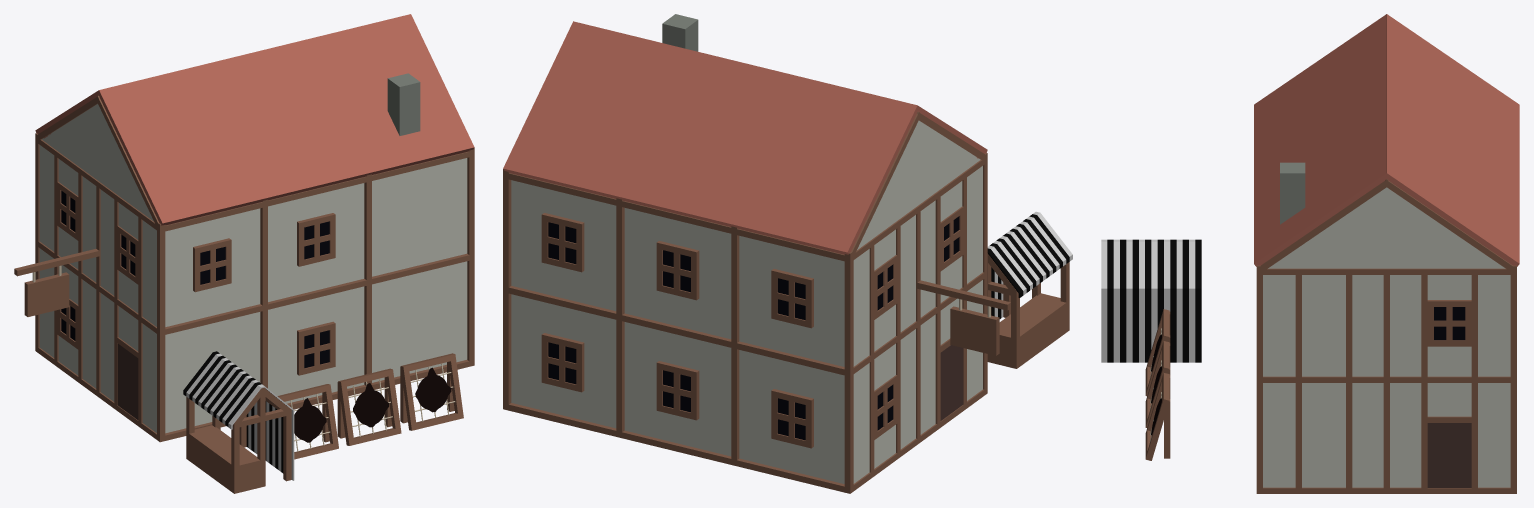
Rendered from timberframedtanner_black_white.obj.
3 renders of one model, left to right at view 1: azimuth 30°, elevation 25°; view 2: azimuth 150°, elevation 25°; view 3: azimuth 270°, elevation 25°, orthographic. The views are drawn at different scales.
Visible parts, largest first — view 1: Cube.005, Cube.007_Cube.011, Cylinder.003_Cylinder.001, Cylinder.001_Cylinder.008, Cube.011_Cube.015, Cylinder.004_Cylinder.009, Cube.018_Cube.016, Cube.026_Cube.019, Cube.006_Cube.010, Cube.001_Cube.058, Cube.056_Cube.081, Cube.013_Cube.080 (+27 smaller); view 2: Cube.005, Cube.007_Cube.011, Cube.022_Cube.025, Cube.023_Cube.026, Cube.021_Cube.024, Cube.028, Cube.019_Cube.022, Cube.017_Cube.021, Cube.014_Cube.018, Cube.008, Cube.015_Cube.020, Cube.020_Cube.023 (+23 smaller); view 3: Cube.005, Cube.007_Cube.011, Cube.147_Cube.153, Cube.003, Cube.033, Cube.016_Cube.013, Cube.032, Cube.031, Cube.012_Cube.017, Cube.027, Cube.034, Cube.047_Cube.049 (+9 smaller).
Part boxes in pixels (box(x1,y1,x2,y2)): Cube.005: box(39, 104, 467, 433); Cube.007_Cube.011: box(35, 14, 474, 225); Cylinder.003_Cylinder.001: box(337, 368, 401, 445); Cylinder.001_Cylinder.008: box(400, 353, 463, 430); Cube.011_Cube.015: box(161, 253, 473, 334); Cylinder.004_Cylinder.009: box(277, 384, 338, 459); Cube.018_Cube.016: box(161, 151, 473, 231); Cube.026_Cube.019: box(157, 223, 165, 442); Cube.006_Cube.010: box(387, 73, 420, 135); Cube.001_Cube.058: box(297, 321, 335, 375); Cube.056_Cube.081: box(193, 238, 231, 292); Cube.013_Cube.080: box(297, 213, 335, 266); Cube.005: box(511, 120, 982, 483); Cube.007_Cube.011: box(503, 21, 987, 254); Cube.022_Cube.025: box(504, 286, 848, 375); Cube.023_Cube.026: box(505, 403, 848, 493); Cube.021_Cube.024: box(505, 173, 848, 261); Cube.028: box(844, 252, 853, 493); Cube.019_Cube.022: box(656, 361, 699, 420); Cube.017_Cube.021: box(541, 333, 584, 392); Cube.014_Cube.018: box(656, 241, 699, 300); Cube.008: box(541, 213, 584, 272); Cube.015_Cube.020: box(771, 269, 813, 328); Cube.020_Cube.023: box(771, 389, 813, 448); Cube.005: box(1263, 187, 1510, 487); Cube.007_Cube.011: box(1254, 14, 1519, 266); Cube.147_Cube.153: box(1101, 288, 1201, 362); Cube.003: box(1427, 423, 1471, 487); Cube.033: box(1427, 300, 1471, 346); Cube.016_Cube.013: box(1261, 376, 1511, 382); Cube.032: box(1261, 268, 1511, 274); Cube.031: box(1261, 487, 1512, 493); Cube.012_Cube.017: box(1256, 265, 1262, 493); Cube.027: box(1510, 265, 1516, 493); Cube.034: box(1383, 268, 1389, 490); Cube.047_Cube.049: box(1295, 268, 1301, 490).
Bounding box in the file's own units: 15.3 × 11.25 × 13.34.
